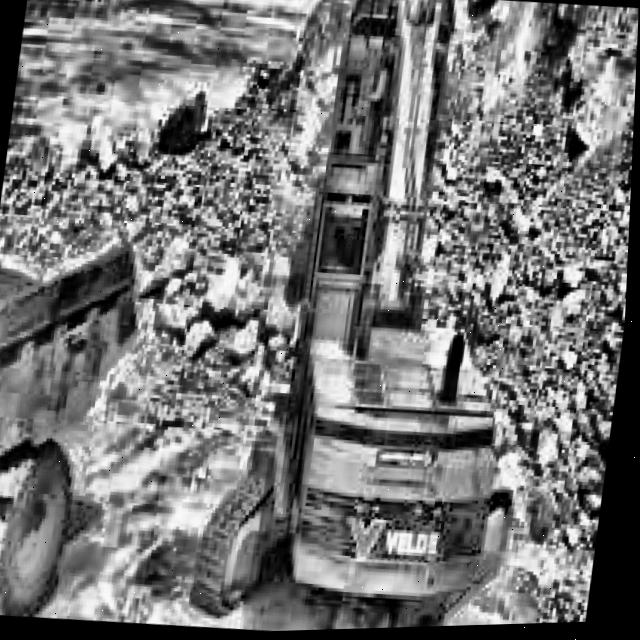dump_truck: (0, 174, 161, 624)
excavator: (187, 0, 578, 635)
